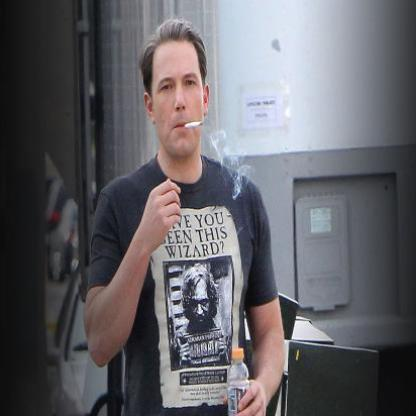cigarette: (182, 119, 205, 130)
person: (89, 19, 285, 415)
smoke: (212, 134, 250, 202)
